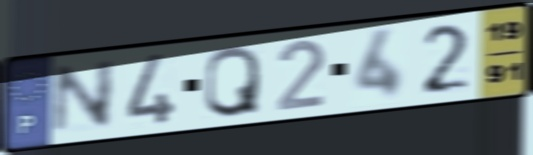2: (273, 37, 327, 114), (420, 21, 472, 96)
4: (349, 23, 408, 106), (122, 50, 178, 128)
N: (48, 56, 119, 139)
Q: (201, 42, 263, 120)
